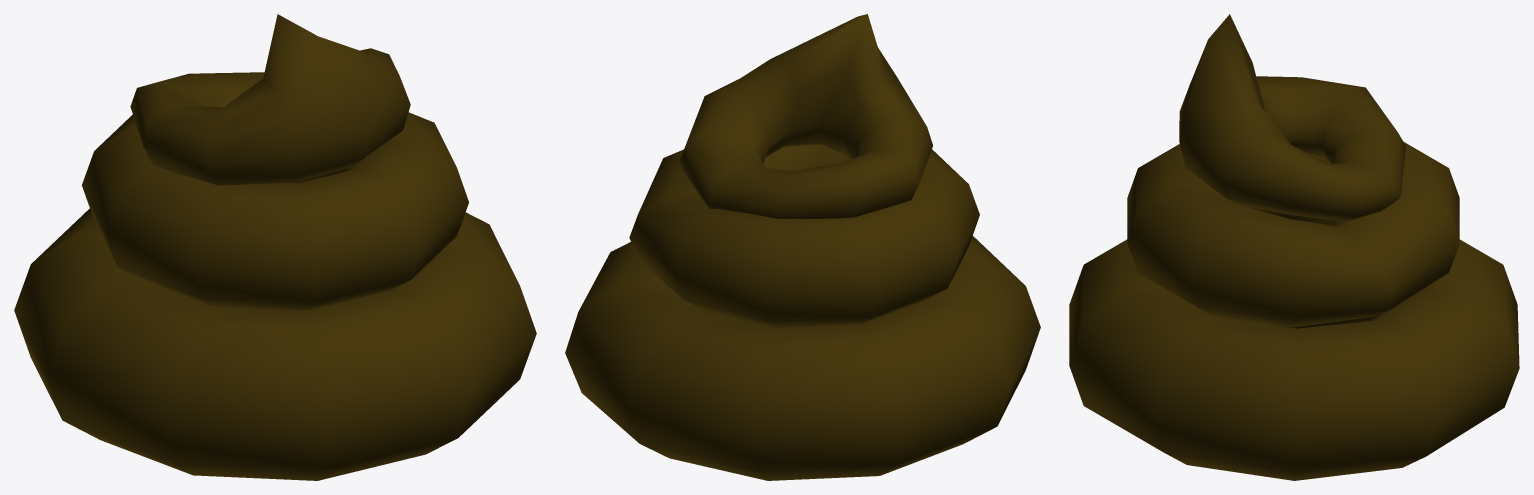
Rendered from UhOhStinky.fbx.
The picture shows the model from 3 angles, left to right: view 1: azimuth 30°, elevation 25°; view 2: azimuth 150°, elevation 25°; view 3: azimuth 270°, elevation 25°; orthographic projection. The views are drawn at different scales.
Parts seen in each view (by area): view 1: Torus, Torus.001, Torus.002; view 2: Torus, Torus.001, Torus.002; view 3: Torus, Torus.001, Torus.002.
Part boxes in pixels (<box>): Torus: <box>14,208,536,480</box>; Torus.001: <box>82,112,468,310</box>; Torus.002: <box>130,14,410,185</box>; Torus: <box>565,236,1040,480</box>; Torus.001: <box>629,144,979,327</box>; Torus.002: <box>679,14,932,218</box>; Torus: <box>1069,239,1519,480</box>; Torus.001: <box>1127,142,1459,327</box>; Torus.002: <box>1179,14,1405,221</box>.
Bounding box in the file's own units: 60.22 × 52.88 × 57.31.
